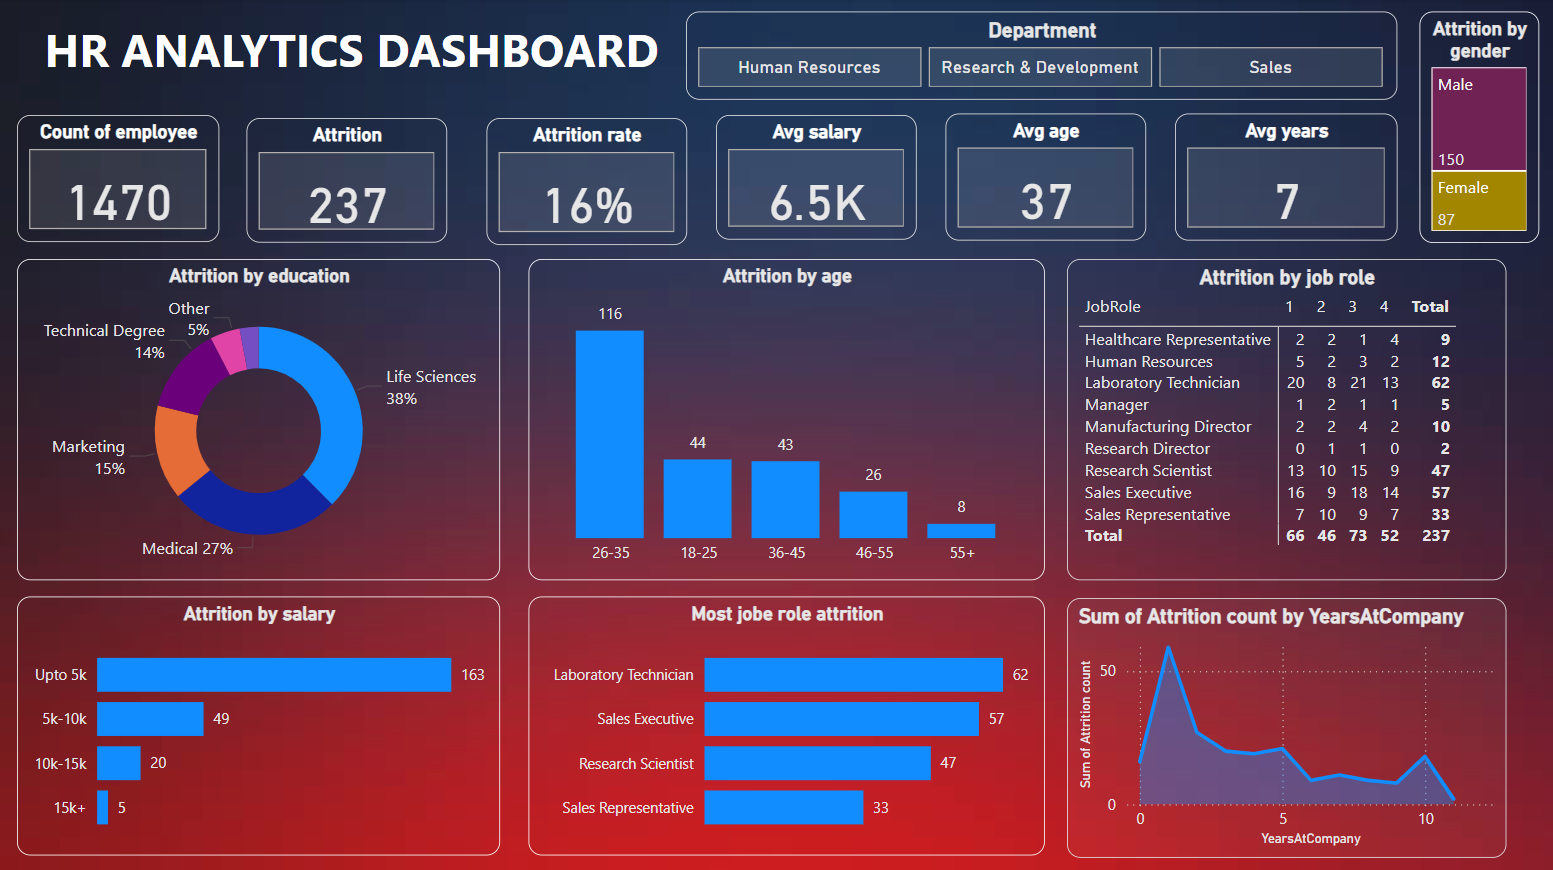

Layout of this report page (visuals, bound fields, positions):
{"tool":"powerbi","page":{"name":"Page 1","canvas":[1280,720],"ordinal":0},"visuals":[{"type":"cardVisual","title":"Count of employee","fields":{"Data":["CountNonNull(HR_Analytics.EmpID)"]},"box":[15.1,96.9,166.6,104.5],"z":0},{"type":"cardVisual","title":"Attrition","fields":{"Data":["Sum(HR_Analytics.Attrition count )"]},"box":[204.4,98.4,165,103],"z":1000},{"type":"cardVisual","title":"Attrition rate","fields":{"Data":["HR_Analytics.Attrition rate"]},"box":[401.3,98.4,165,104.5],"z":2000},{"type":"cardVisual","title":"Avg age","fields":{"Data":["Avg(HR_Analytics.Age)"]},"box":[779.8,95.4,165,104.5],"z":3000},{"type":"cardVisual","title":"Avg salary","fields":{"Data":["Avg(HR_Analytics.MonthlyIncome)"]},"box":[590.5,96.9,165,103],"z":4000},{"type":"cardVisual","title":"Avg years","fields":{"Data":["Avg(HR_Analytics.YearsAtCompany)"]},"box":[969.1,95.4,183.2,104.5],"z":5000},{"type":"donutChart","title":"Attrition by education ","fields":{"Category":["HR_Analytics.EducationField"],"Y":["Sum(HR_Analytics.Attrition count )"]},"box":[15.1,215,398.2,265],"z":6000},{"type":"columnChart","title":"Attrition by age ","fields":{"Y":["Sum(HR_Analytics.Attrition count )"],"Category":["HR_Analytics.AgeGroup"]},"box":[436.1,215,425.5,265],"z":7000},{"type":"pivotTable","title":"Attrition by job role","fields":{"Rows":["HR_Analytics.JobRole"],"Columns":["HR_Analytics.JobSatisfaction"],"Values":["Sum(HR_Analytics.Attrition count )"]},"box":[879.8,215,361.9,265],"z":7001},{"type":"barChart","title":"Attrition by salary ","fields":{"Category":["HR_Analytics.SalarySlab"],"Y":["Sum(HR_Analytics.Attrition count )"]},"box":[15.1,493.6,398.2,213.5],"z":7002},{"type":"barChart","title":"Most jobe role attrition","fields":{"Category":["HR_Analytics.JobRole"],"Y":["Sum(HR_Analytics.Attrition count )"]},"box":[436.1,493.6,425.5,213.5],"z":7003},{"type":"areaChart","fields":{"Y":["Sum(HR_Analytics.Attrition count )"],"Category":["HR_Analytics.YearsAtCompany"]},"box":[880,494,362,214],"z":7004},{"type":"treemap","title":"Attrition by gender ","fields":{"Group":["HR_Analytics.Gender","HR_Analytics.Attrition count "],"Values":["Sum(HR_Analytics.Attrition count )"]},"box":[1170.5,10.6,98.4,190.8],"z":7005},{"type":"advancedSlicerVisual","fields":{"Values":["HR_Analytics.Department"]},"box":[566.3,10.6,586,72.7],"z":7006},{"type":"textbox","box":[15.1,10.6,551.2,72.7],"z":7007}]}

Visuals, with their boxes in screenshot pixels (x1, y1, x2, y2), scaled from the page's 1280x720 canvas onto the 1553x870 screenshot:
"Count of employee" cardVisual: <region>18, 117, 220, 243</region>
"Attrition" cardVisual: <region>248, 119, 448, 243</region>
"Attrition rate" cardVisual: <region>487, 119, 687, 245</region>
"Avg age" cardVisual: <region>946, 115, 1146, 242</region>
"Avg salary" cardVisual: <region>716, 117, 917, 242</region>
"Avg years" cardVisual: <region>1176, 115, 1398, 242</region>
"Attrition by education " donutChart: <region>18, 260, 501, 580</region>
"Attrition by age " columnChart: <region>529, 260, 1045, 580</region>
"Attrition by job role" pivotTable: <region>1067, 260, 1507, 580</region>
"Attrition by salary " barChart: <region>18, 596, 501, 854</region>
"Most jobe role attrition" barChart: <region>529, 596, 1045, 854</region>
areaChart - Sum(HR_Analytics.Attrition count ) x HR_Analytics.YearsAtCompany: <region>1068, 597, 1507, 856</region>
"Attrition by gender " treemap: <region>1420, 13, 1540, 243</region>
advancedSlicerVisual - HR_Analytics.Department: <region>687, 13, 1398, 101</region>
textbox: <region>18, 13, 687, 101</region>
